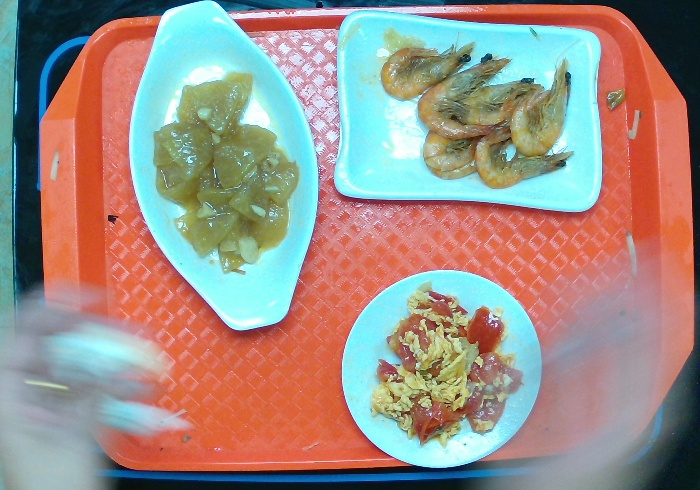RJxy-Si_Fang_Ao_Bian_Wan: (331, 9, 604, 213)
RJxy-Xiao_Yuan_Die: (340, 267, 544, 469)
RJxy-Yu_Pan: (127, 1, 320, 332)
